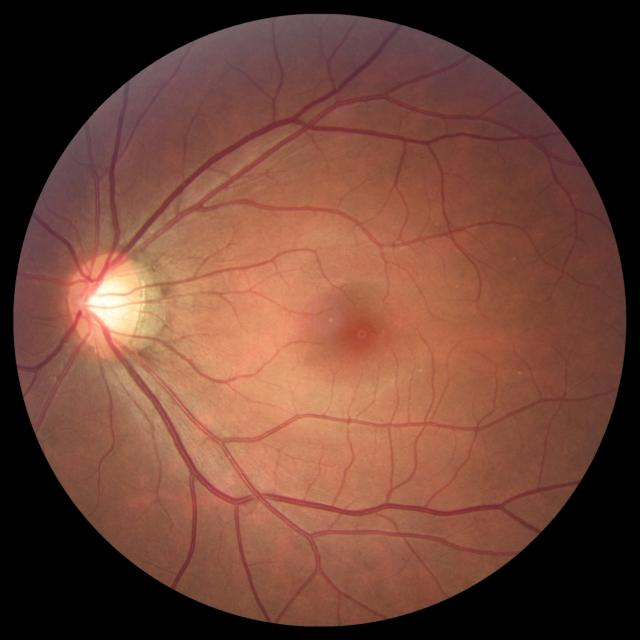OC: (85, 274, 133, 330)
OD: (68, 250, 146, 354)
